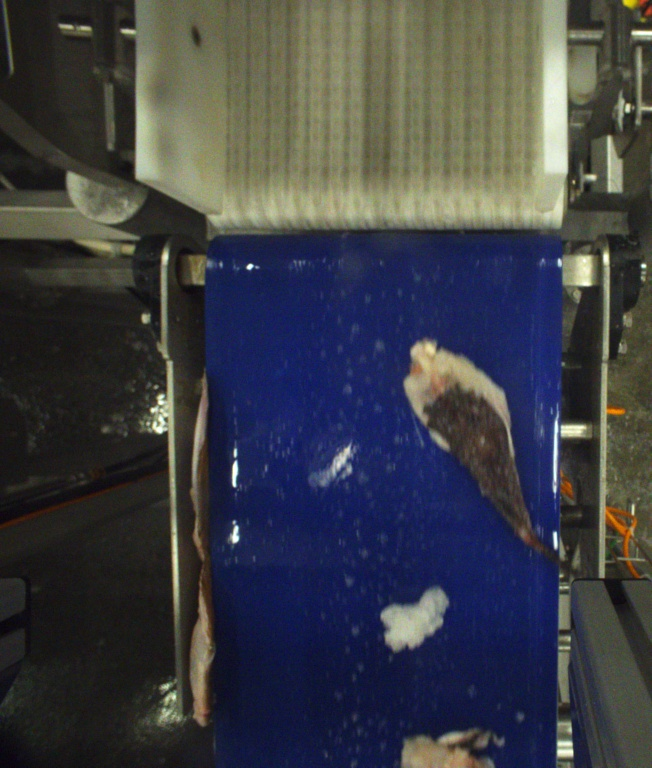ANF: (407, 335, 571, 567)
